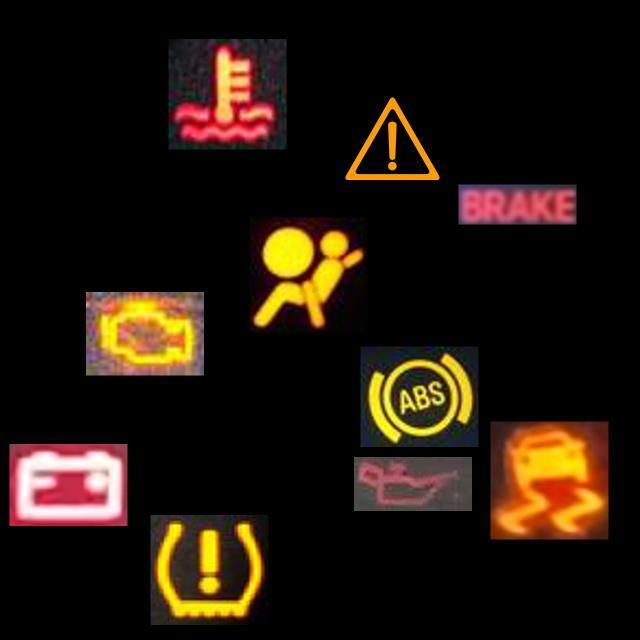Central Warning lamp: (334, 80, 452, 198)
Engine cooling system: (168, 39, 286, 150)
